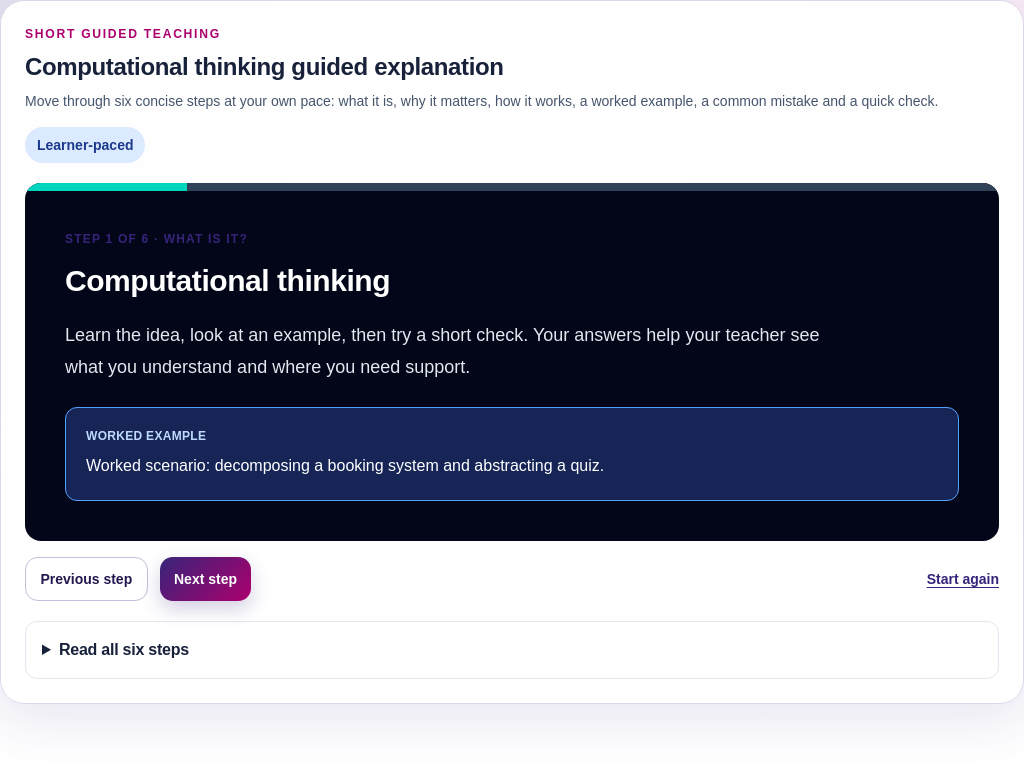
Test: short guided topic explanation › provides six learner-paced steps without video or autoplay controls
Expected: the text "Step 1 of 6 · What is it?" is shown, [65,232,248,246]
Expected: the heading "Read all six steps" is shown, [59,641,189,658]
Click the button "Next step": (206, 579) [160,557,251,601]
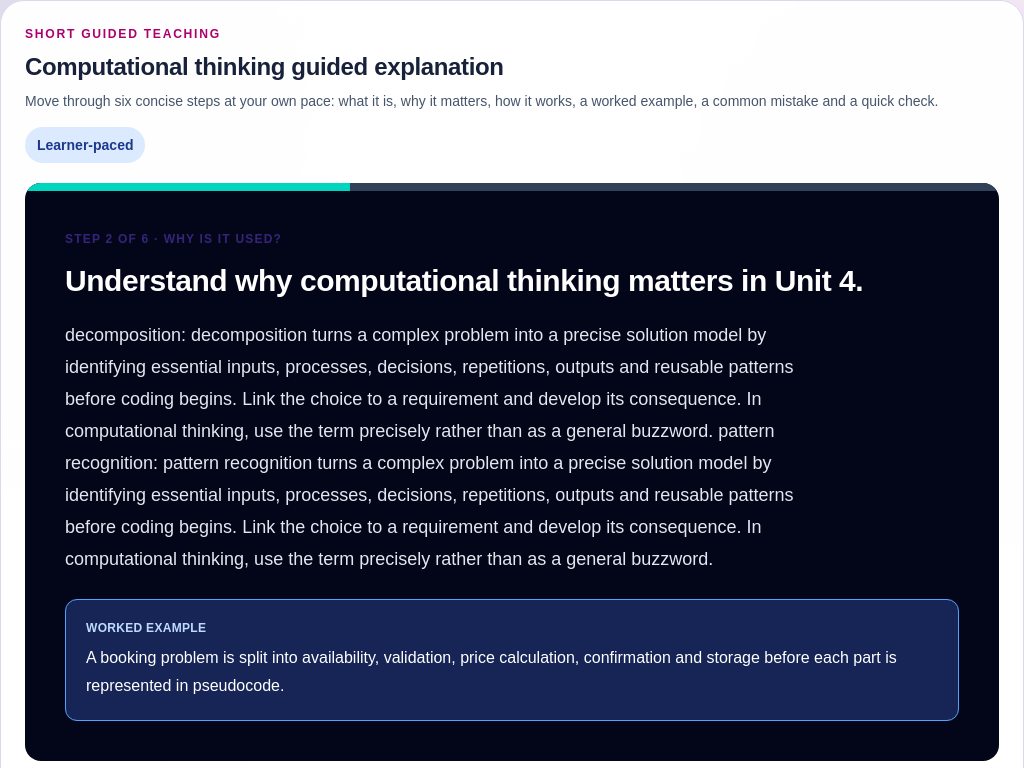
Expected: the text "Step 2 of 6 · Why is it used?" is shown, [65,232,282,246]
